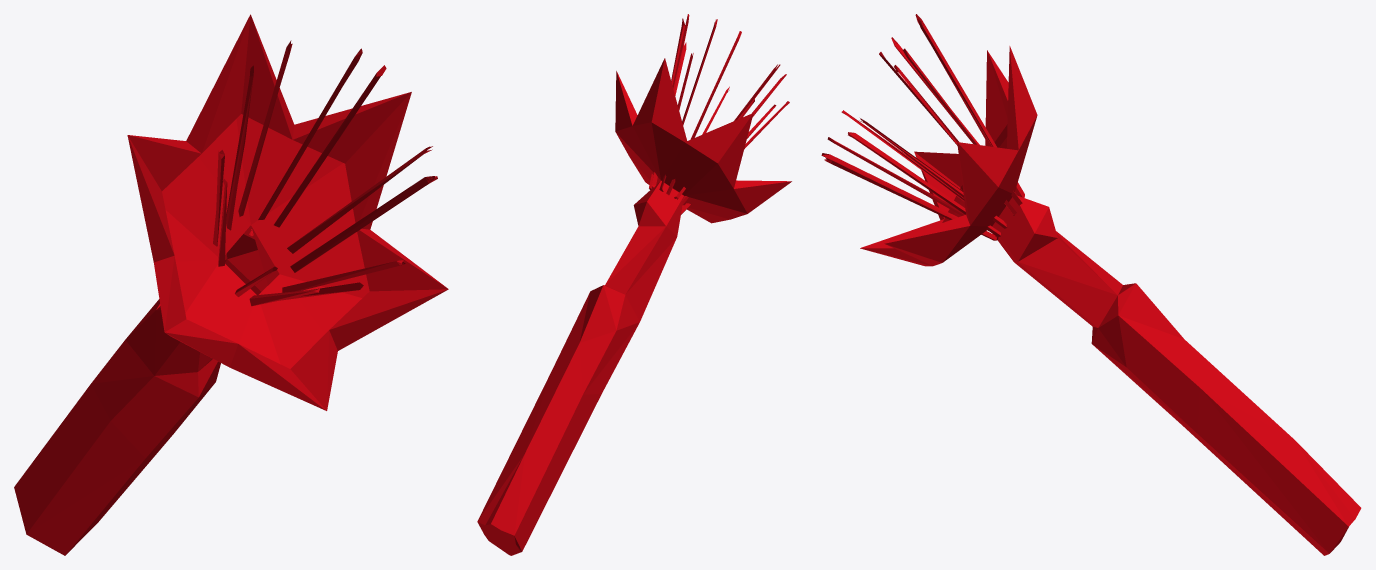
File: flowerPlant.fbx
3 renders of one model, left to right at view 1: azimuth 30°, elevation 25°; view 2: azimuth 150°, elevation 25°; view 3: azimuth 270°, elevation 25°, orthographic. The views are drawn at different scales.
Parts seen in each view (by area): view 1: 1flower; view 2: 1flower; view 3: 1flower.
Part boxes in pixels (x1,y1,x2,y2): 1flower: [14, 14, 448, 555]; 1flower: [477, 14, 791, 555]; 1flower: [821, 14, 1361, 555].
Size of the model in its own units: 2.47 by 6.32 by 6.
